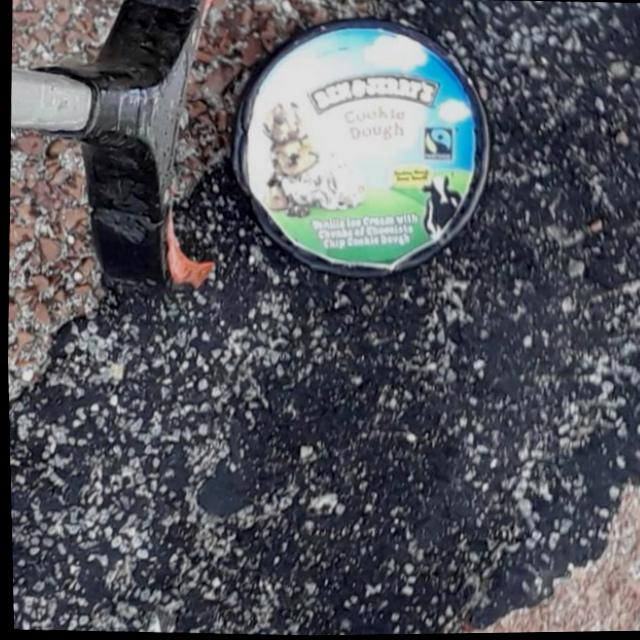Paper: (216, 10, 500, 288)
